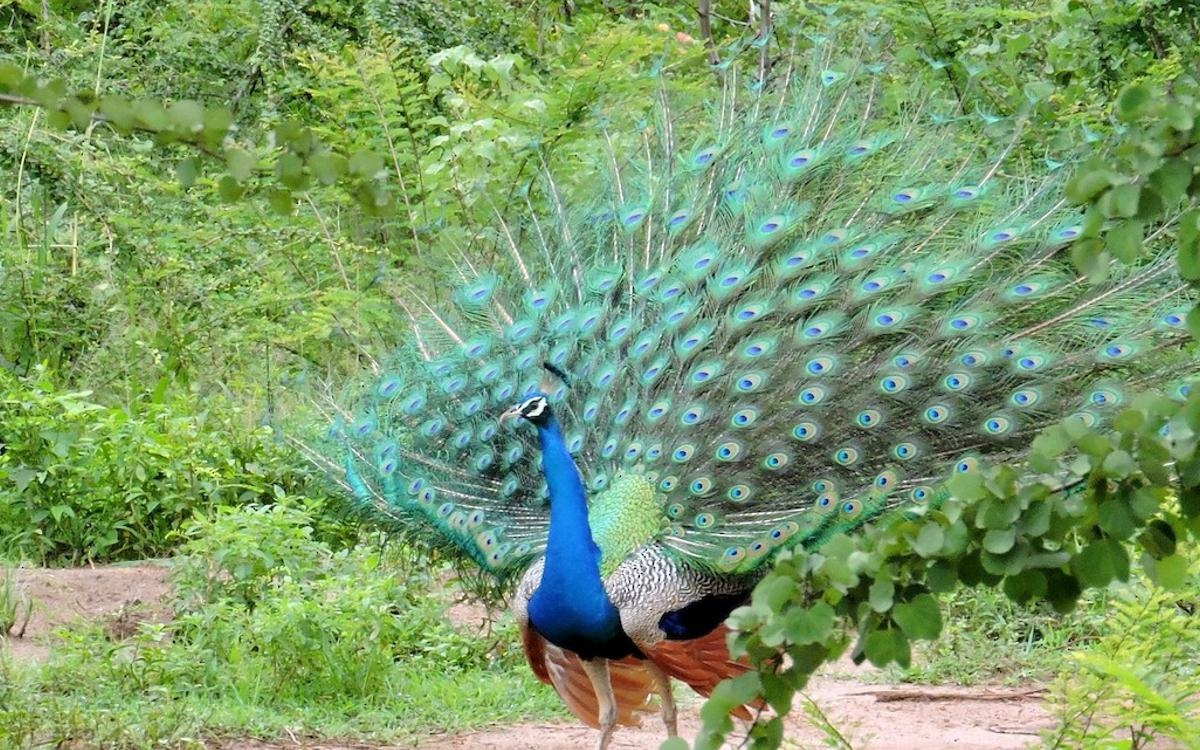peacock: (357, 208, 1054, 723)
